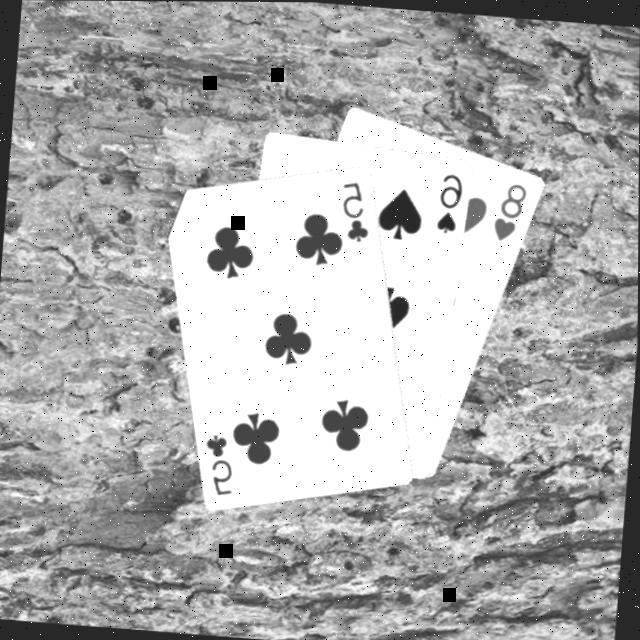5C: (201, 430, 242, 499), (338, 177, 378, 245)
6S: (436, 169, 470, 237)
8H: (491, 178, 533, 245)
